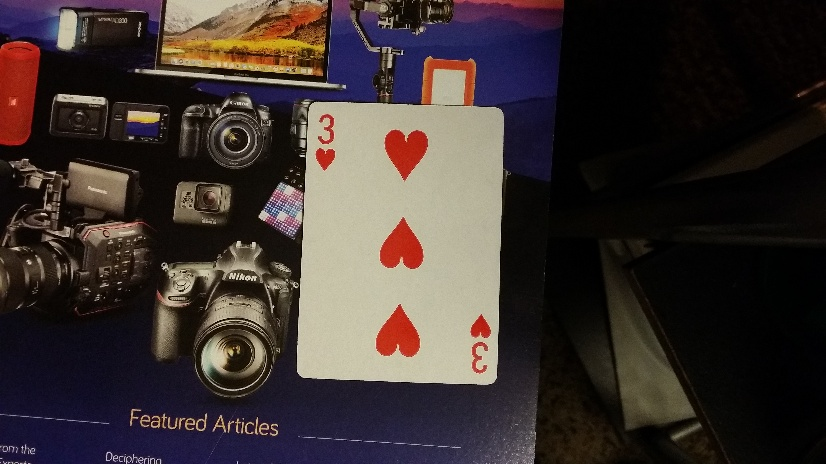H3: (466, 307, 492, 375), (314, 110, 341, 173)
